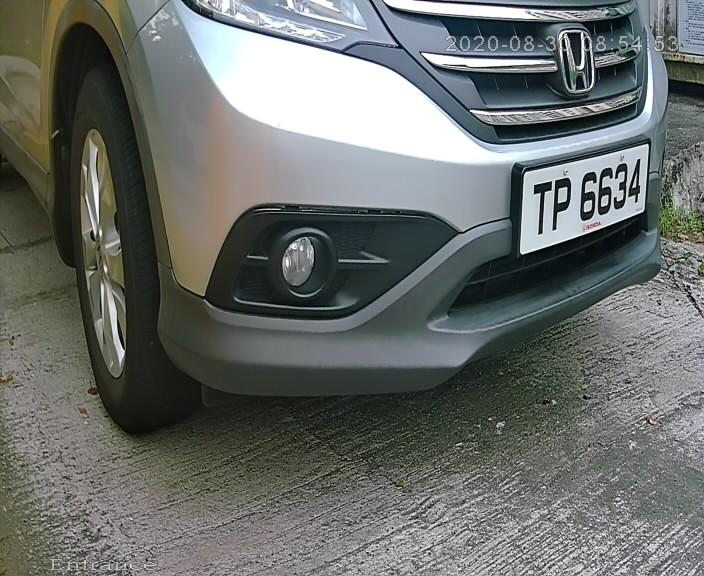License Plate: (507, 134, 654, 253)
